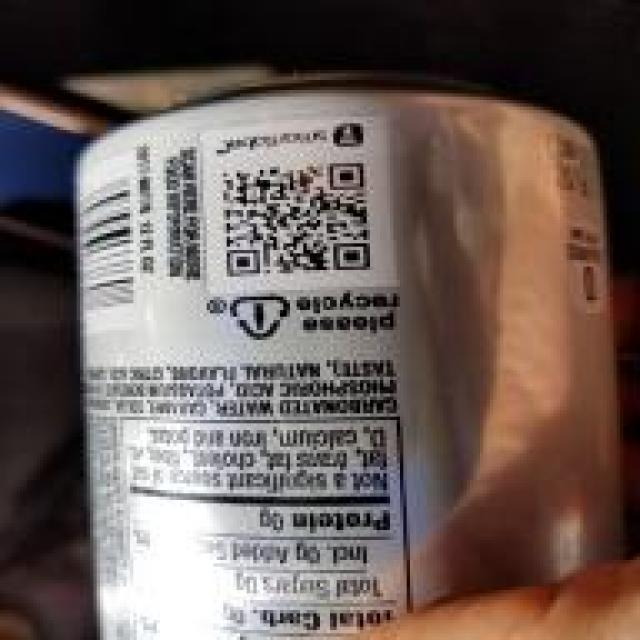qr_code: (221, 162, 370, 276)
